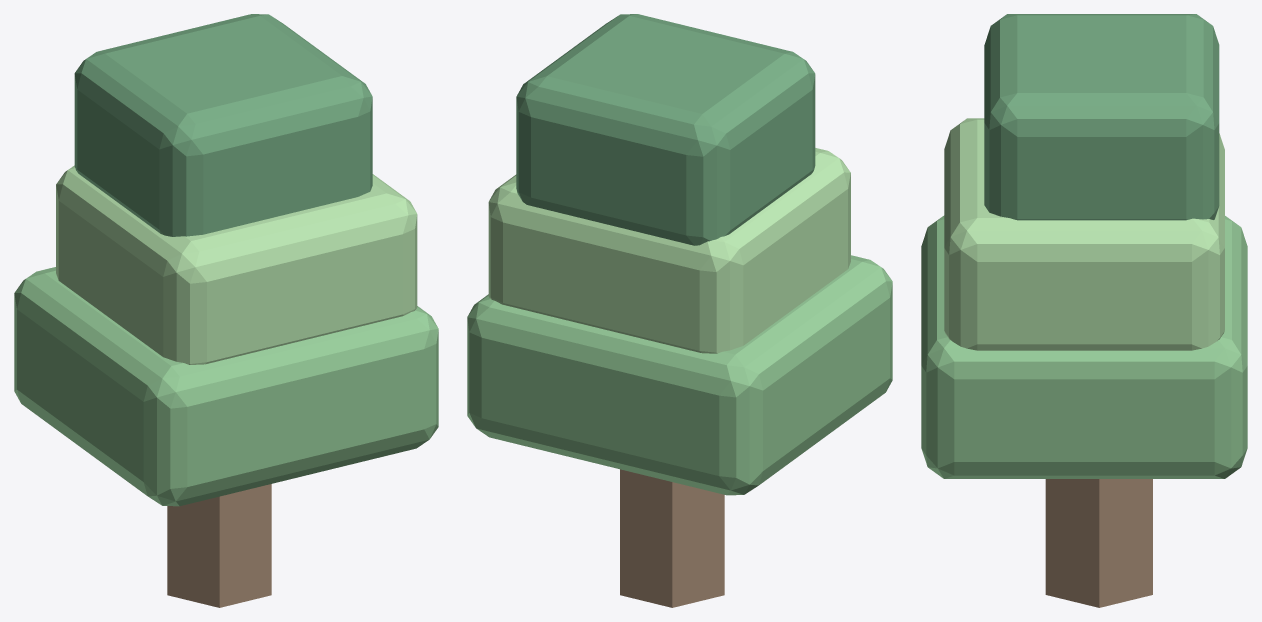
Rendered from tree_a.glb.
The picture shows the model from 3 angles, left to right: view 1: azimuth 30°, elevation 25°; view 2: azimuth 150°, elevation 25°; view 3: azimuth 270°, elevation 25°; orthographic projection. The views are drawn at different scales.
Parts seen in each view (by area): view 1: canopy_0_m0, canopy_2_m0, canopy_1_m0, trunk_m0; view 2: canopy_0_m0, canopy_2_m0, canopy_1_m0, trunk_m0; view 3: canopy_2_m0, canopy_0_m0, canopy_1_m0, trunk_m0.
Part boxes in pixels (x1,y1,x2,y2): canopy_0_m0: (14, 267, 438, 506); canopy_2_m0: (74, 14, 372, 236); canopy_1_m0: (56, 165, 417, 364); trunk_m0: (167, 484, 271, 607); canopy_0_m0: (467, 255, 892, 495); canopy_2_m0: (516, 14, 815, 245); canopy_1_m0: (488, 148, 850, 353); trunk_m0: (620, 469, 724, 607); canopy_2_m0: (984, 14, 1219, 220); canopy_0_m0: (921, 215, 1247, 478); canopy_1_m0: (944, 118, 1224, 350); trunk_m0: (1045, 479, 1152, 607).
Bounding box in the file's own units: 1.34 × 2.26 × 1.26.
